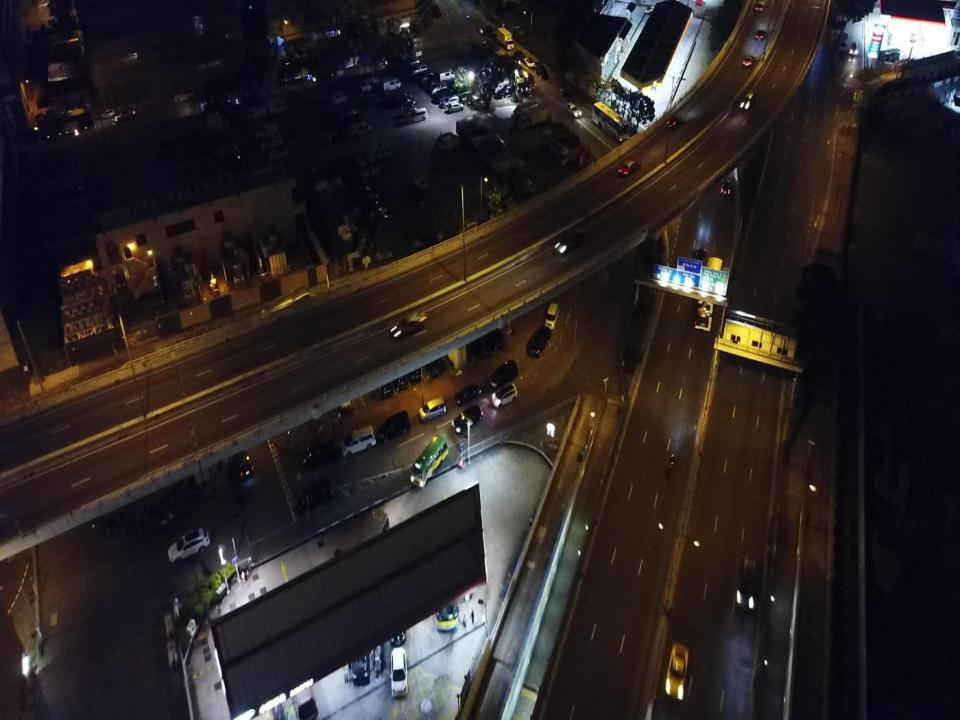bus: (694, 256, 723, 332), (410, 433, 449, 489), (306, 48, 374, 80), (287, 652, 319, 718), (436, 548, 459, 630), (38, 110, 96, 139), (592, 100, 629, 142), (498, 54, 534, 94), (484, 153, 524, 178), (456, 114, 493, 139), (516, 105, 549, 131), (470, 134, 507, 157), (511, 100, 539, 124), (500, 179, 535, 198), (551, 135, 579, 157), (558, 144, 584, 166), (542, 122, 567, 144), (878, 47, 900, 65)
car: (166, 526, 210, 562), (665, 641, 689, 700), (734, 554, 758, 613), (340, 425, 376, 457), (296, 479, 332, 510), (377, 410, 411, 442), (301, 440, 336, 470), (390, 311, 428, 338), (229, 443, 254, 482), (452, 403, 483, 434), (351, 181, 382, 211), (390, 647, 408, 697), (351, 639, 370, 684), (489, 359, 519, 387), (448, 77, 478, 103), (418, 397, 446, 422), (528, 326, 551, 356), (492, 383, 518, 409), (469, 327, 490, 358), (389, 608, 406, 645), (454, 383, 481, 406), (555, 232, 583, 253), (374, 369, 393, 398), (487, 323, 505, 352), (335, 383, 352, 412), (427, 346, 442, 378), (393, 362, 409, 391), (408, 351, 422, 382), (617, 160, 641, 176), (545, 302, 559, 329), (693, 246, 706, 270), (235, 92, 259, 104), (261, 135, 283, 148), (114, 108, 136, 121), (358, 224, 373, 243), (412, 186, 426, 206), (740, 91, 754, 110), (434, 88, 453, 102), (388, 90, 410, 102), (269, 148, 289, 161), (566, 102, 582, 118), (374, 213, 396, 224), (368, 206, 386, 219), (337, 107, 358, 118), (534, 61, 547, 78), (499, 85, 516, 98), (411, 62, 428, 75), (394, 97, 416, 107), (383, 55, 403, 66), (203, 100, 225, 110), (441, 96, 459, 108), (430, 83, 448, 95), (666, 116, 682, 129), (425, 78, 442, 90), (559, 86, 574, 99), (420, 74, 437, 85), (742, 55, 756, 68), (720, 179, 730, 197), (404, 107, 421, 116), (524, 56, 536, 68), (478, 25, 494, 34), (514, 50, 526, 62), (101, 108, 115, 118), (449, 103, 464, 112), (755, 29, 766, 40), (510, 55, 521, 66), (850, 42, 858, 57), (755, 1, 765, 13), (433, 4, 441, 17), (644, 4, 655, 12), (910, 33, 916, 43)
truck: (496, 23, 515, 50)
van: (436, 132, 460, 152), (204, 114, 230, 132), (255, 122, 278, 139), (267, 97, 289, 114), (246, 103, 268, 120), (365, 151, 380, 175), (411, 169, 428, 189), (350, 122, 371, 137), (406, 108, 428, 122), (173, 87, 195, 101), (356, 156, 369, 178), (366, 140, 381, 159), (378, 138, 392, 158), (329, 90, 347, 105), (437, 68, 456, 82), (493, 79, 510, 93), (361, 78, 379, 91), (382, 78, 401, 90), (840, 32, 848, 52)
